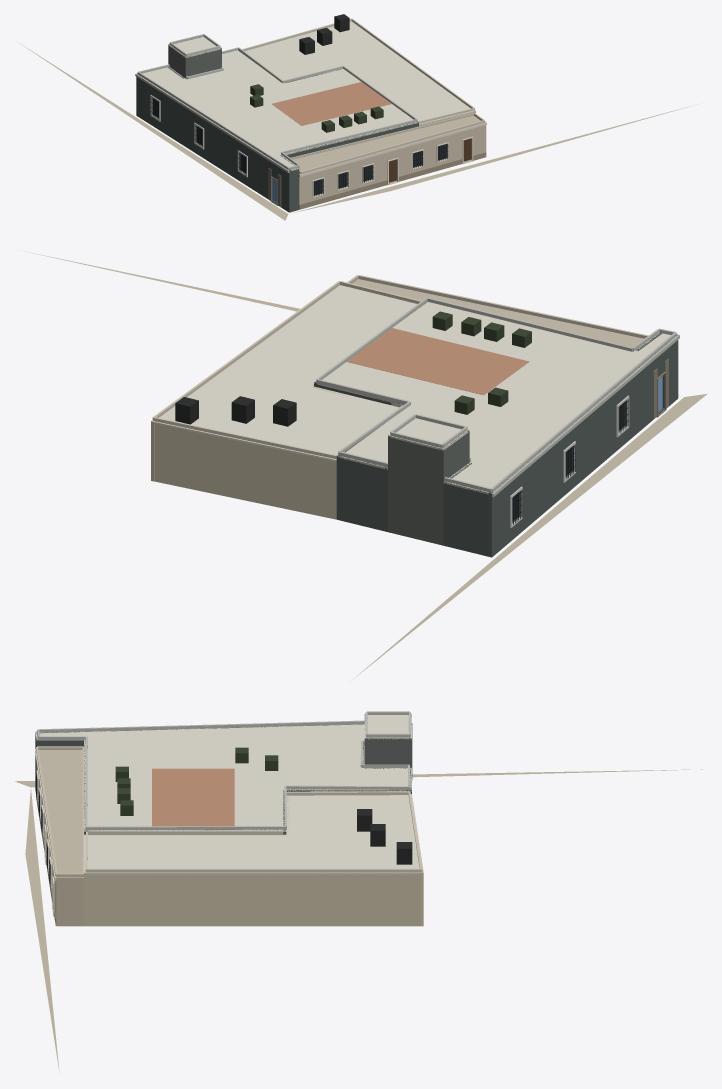
The picture shows the model from 3 angles, top to bottom: view 1: azimuth 30°, elevation 25°; view 2: azimuth 150°, elevation 25°; view 3: azimuth 270°, elevation 25°; orthographic projection. The views are drawn at different scales.
Visible parts, largest first — view 1: edificio; view 2: edificio; view 3: edificio.
Part boxes in pixels (x1=…): edificio: x1=19, y1=14, x2=698, y2=220; edificio: x1=21, y1=250, x2=707, y2=680; edificio: x1=15, y1=711, x2=702, y2=1072.
Bounding box in the file's own units: 48.89 × 6.71 × 46.99.
